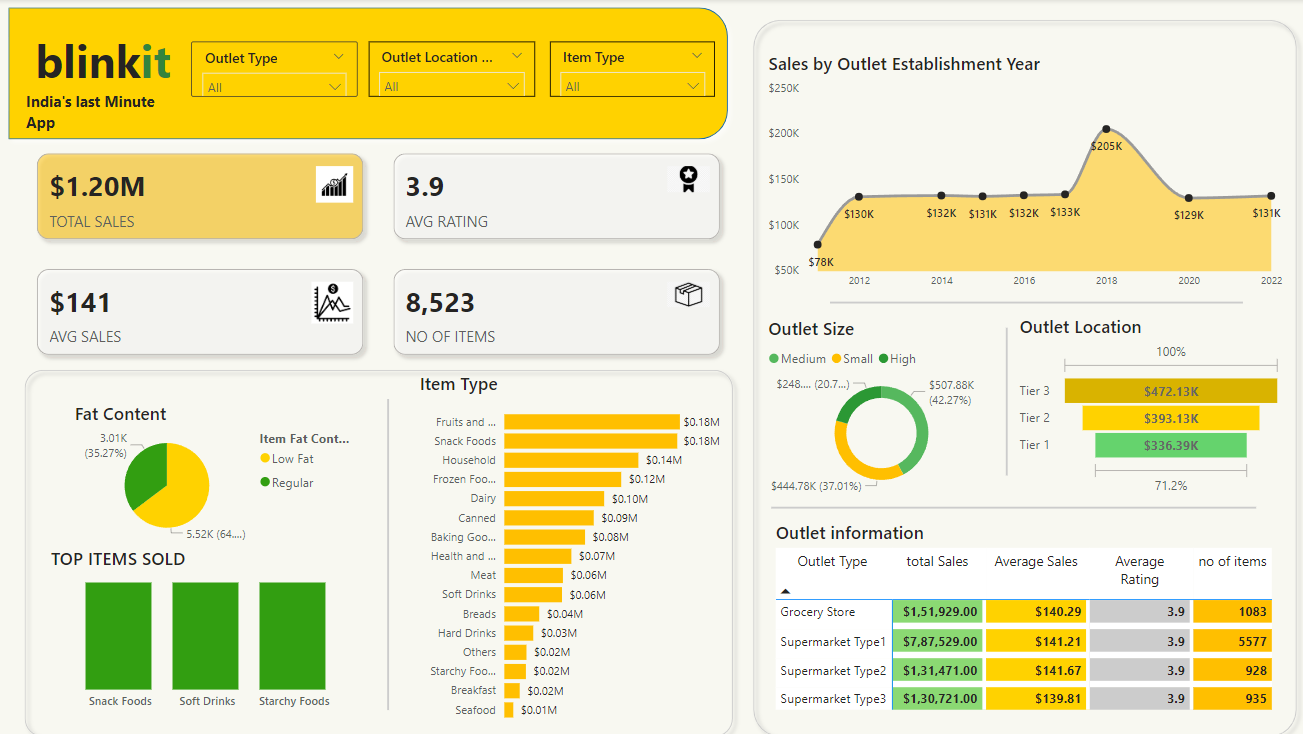

The page's visual inventory and layout, read from the dashboard file:
{"tool":"powerbi","page":{"name":"Page 1","canvas":[1400,800],"ordinal":0},"visuals":[{"type":"shape","box":[0,0,789.5,159.5],"z":0},{"type":"textbox","box":[25,28.3,170,76.7],"z":1000},{"type":"textbox","box":[23.3,93.3,181.7,55],"z":2000},{"type":"shape","box":[17.4,388.7,777.5,411.5],"z":5000},{"type":"hundredPercentStackedColumnChart","title":"TOP ITEMS SOLD ","fields":{"Y":["CountNonNull(BlinkIT Grocery Data.Sales)"],"Category":["BlinkIT Grocery Data.Item Type"]},"box":[49.6,587.1,345.8,183.6],"z":6000},{"type":"shape","box":[406.2,429,20.1,333.8],"z":7000},{"type":"barChart","title":"  Item Type","fields":{"Y":["Sum(BlinkIT Grocery Data.Sales)"],"Category":["BlinkIT Grocery Data.Item Type"]},"box":[445,399.5,332.4,384.7],"z":8000},{"type":"shape","box":[798.9,13.4,600.5,786.9],"z":9000},{"type":"lineChart","title":"Sales by Outlet Establishment Year","fields":{"Y":["Sum(BlinkIT Grocery Data.Sales)"],"Category":["BlinkIT Grocery Data.Outlet Establishment Year"]},"box":[818.6,55.7,561.4,262.9],"z":10000},{"type":"shape","box":[890,317.1,442.9,15.7],"z":11000},{"type":"donutChart","title":" Outlet Size ","fields":{"Category":["BlinkIT Grocery Data.Outlet Size"],"Y":["Sum(BlinkIT Grocery Data.Sales)"]},"box":[818.6,340,252.9,195.7],"z":12000},{"type":"shape","box":[1071.4,352.9,17.1,158.6],"z":13000},{"type":"funnel","title":" Outlet Location ","fields":{"Category":["BlinkIT Grocery Data.Outlet Location Type"],"Y":["Sum(BlinkIT Grocery Data.Sales)"]},"box":[1088.6,337.1,291.4,198.6],"z":14000},{"type":"shape","box":[827.1,535.7,520,18.6],"z":15000},{"type":"pivotTable","title":"Outlet information","fields":{"Rows":["BlinkIT Grocery Data.Outlet Type"],"Values":["Sum(BlinkIT Grocery Data.Sales)","Avg(BlinkIT Grocery Data.Sales)","Avg(BlinkIT Grocery Data.Rating)","CountNonNull(BlinkIT Grocery Data.Sales)"]},"box":[827.1,558.6,544.3,211.4],"z":16000},{"type":"slicer","fields":{"Values":["BlinkIT Grocery Data.Outlet Type"]},"box":[205.1,45.6,178.3,59],"z":17000},{"type":"slicer","fields":{"Values":["BlinkIT Grocery Data.Outlet Location Type"]},"box":[395.4,45.6,178.3,59],"z":18000},{"type":"slicer","fields":{"Values":["BlinkIT Grocery Data.Item Type"]},"box":[589.8,45.6,176.9,59],"z":19000},{"type":"pieChart","title":" Fat Content","fields":{"Category":["BlinkIT Grocery Data.Item Fat Content"],"Y":["CountNonNull(BlinkIT Grocery Data.Item Fat Content)"]},"box":[75.1,431.6,308.3,155.5],"z":20000},{"type":"cardVisual","fields":{"Data":["Sum(BlinkIT Grocery Data.Sales)","Avg(BlinkIT Grocery Data.Rating)","Avg(BlinkIT Grocery Data.Sales)","CountNonNull(BlinkIT Grocery Data.Item Visibility)"]},"box":[22.8,148.8,766.8,250.7],"z":20001}]}

Visuals, with their boxes in screenshot pixels (x1, y1, x2, y2), scaled from the page's 1400x800 canvas onto the 1303x734 screenshot:
shape: (left=0, top=0, right=735, bottom=146)
textbox: (left=23, top=26, right=181, bottom=96)
textbox: (left=22, top=86, right=191, bottom=136)
shape: (left=16, top=357, right=740, bottom=733)
"TOP ITEMS SOLD " hundredPercentStackedColumnChart: (left=46, top=539, right=368, bottom=707)
shape: (left=378, top=394, right=397, bottom=700)
"  Item Type" barChart: (left=414, top=367, right=724, bottom=720)
shape: (left=744, top=12, right=1302, bottom=733)
"Sales by Outlet Establishment Year" lineChart: (left=762, top=51, right=1284, bottom=292)
shape: (left=828, top=291, right=1241, bottom=305)
" Outlet Size " donutChart: (left=762, top=312, right=997, bottom=492)
shape: (left=997, top=324, right=1013, bottom=469)
" Outlet Location " funnel: (left=1013, top=309, right=1284, bottom=492)
shape: (left=770, top=492, right=1254, bottom=509)
"Outlet information" pivotTable: (left=770, top=513, right=1276, bottom=706)
slicer - BlinkIT Grocery Data.Outlet Type: (left=191, top=42, right=357, bottom=96)
slicer - BlinkIT Grocery Data.Outlet Location Type: (left=368, top=42, right=534, bottom=96)
slicer - BlinkIT Grocery Data.Item Type: (left=549, top=42, right=714, bottom=96)
" Fat Content" pieChart: (left=70, top=396, right=357, bottom=539)
cardVisual - Sum(BlinkIT Grocery Data.Sales) x Avg(BlinkIT Grocery Data.Rating): (left=21, top=137, right=735, bottom=367)
